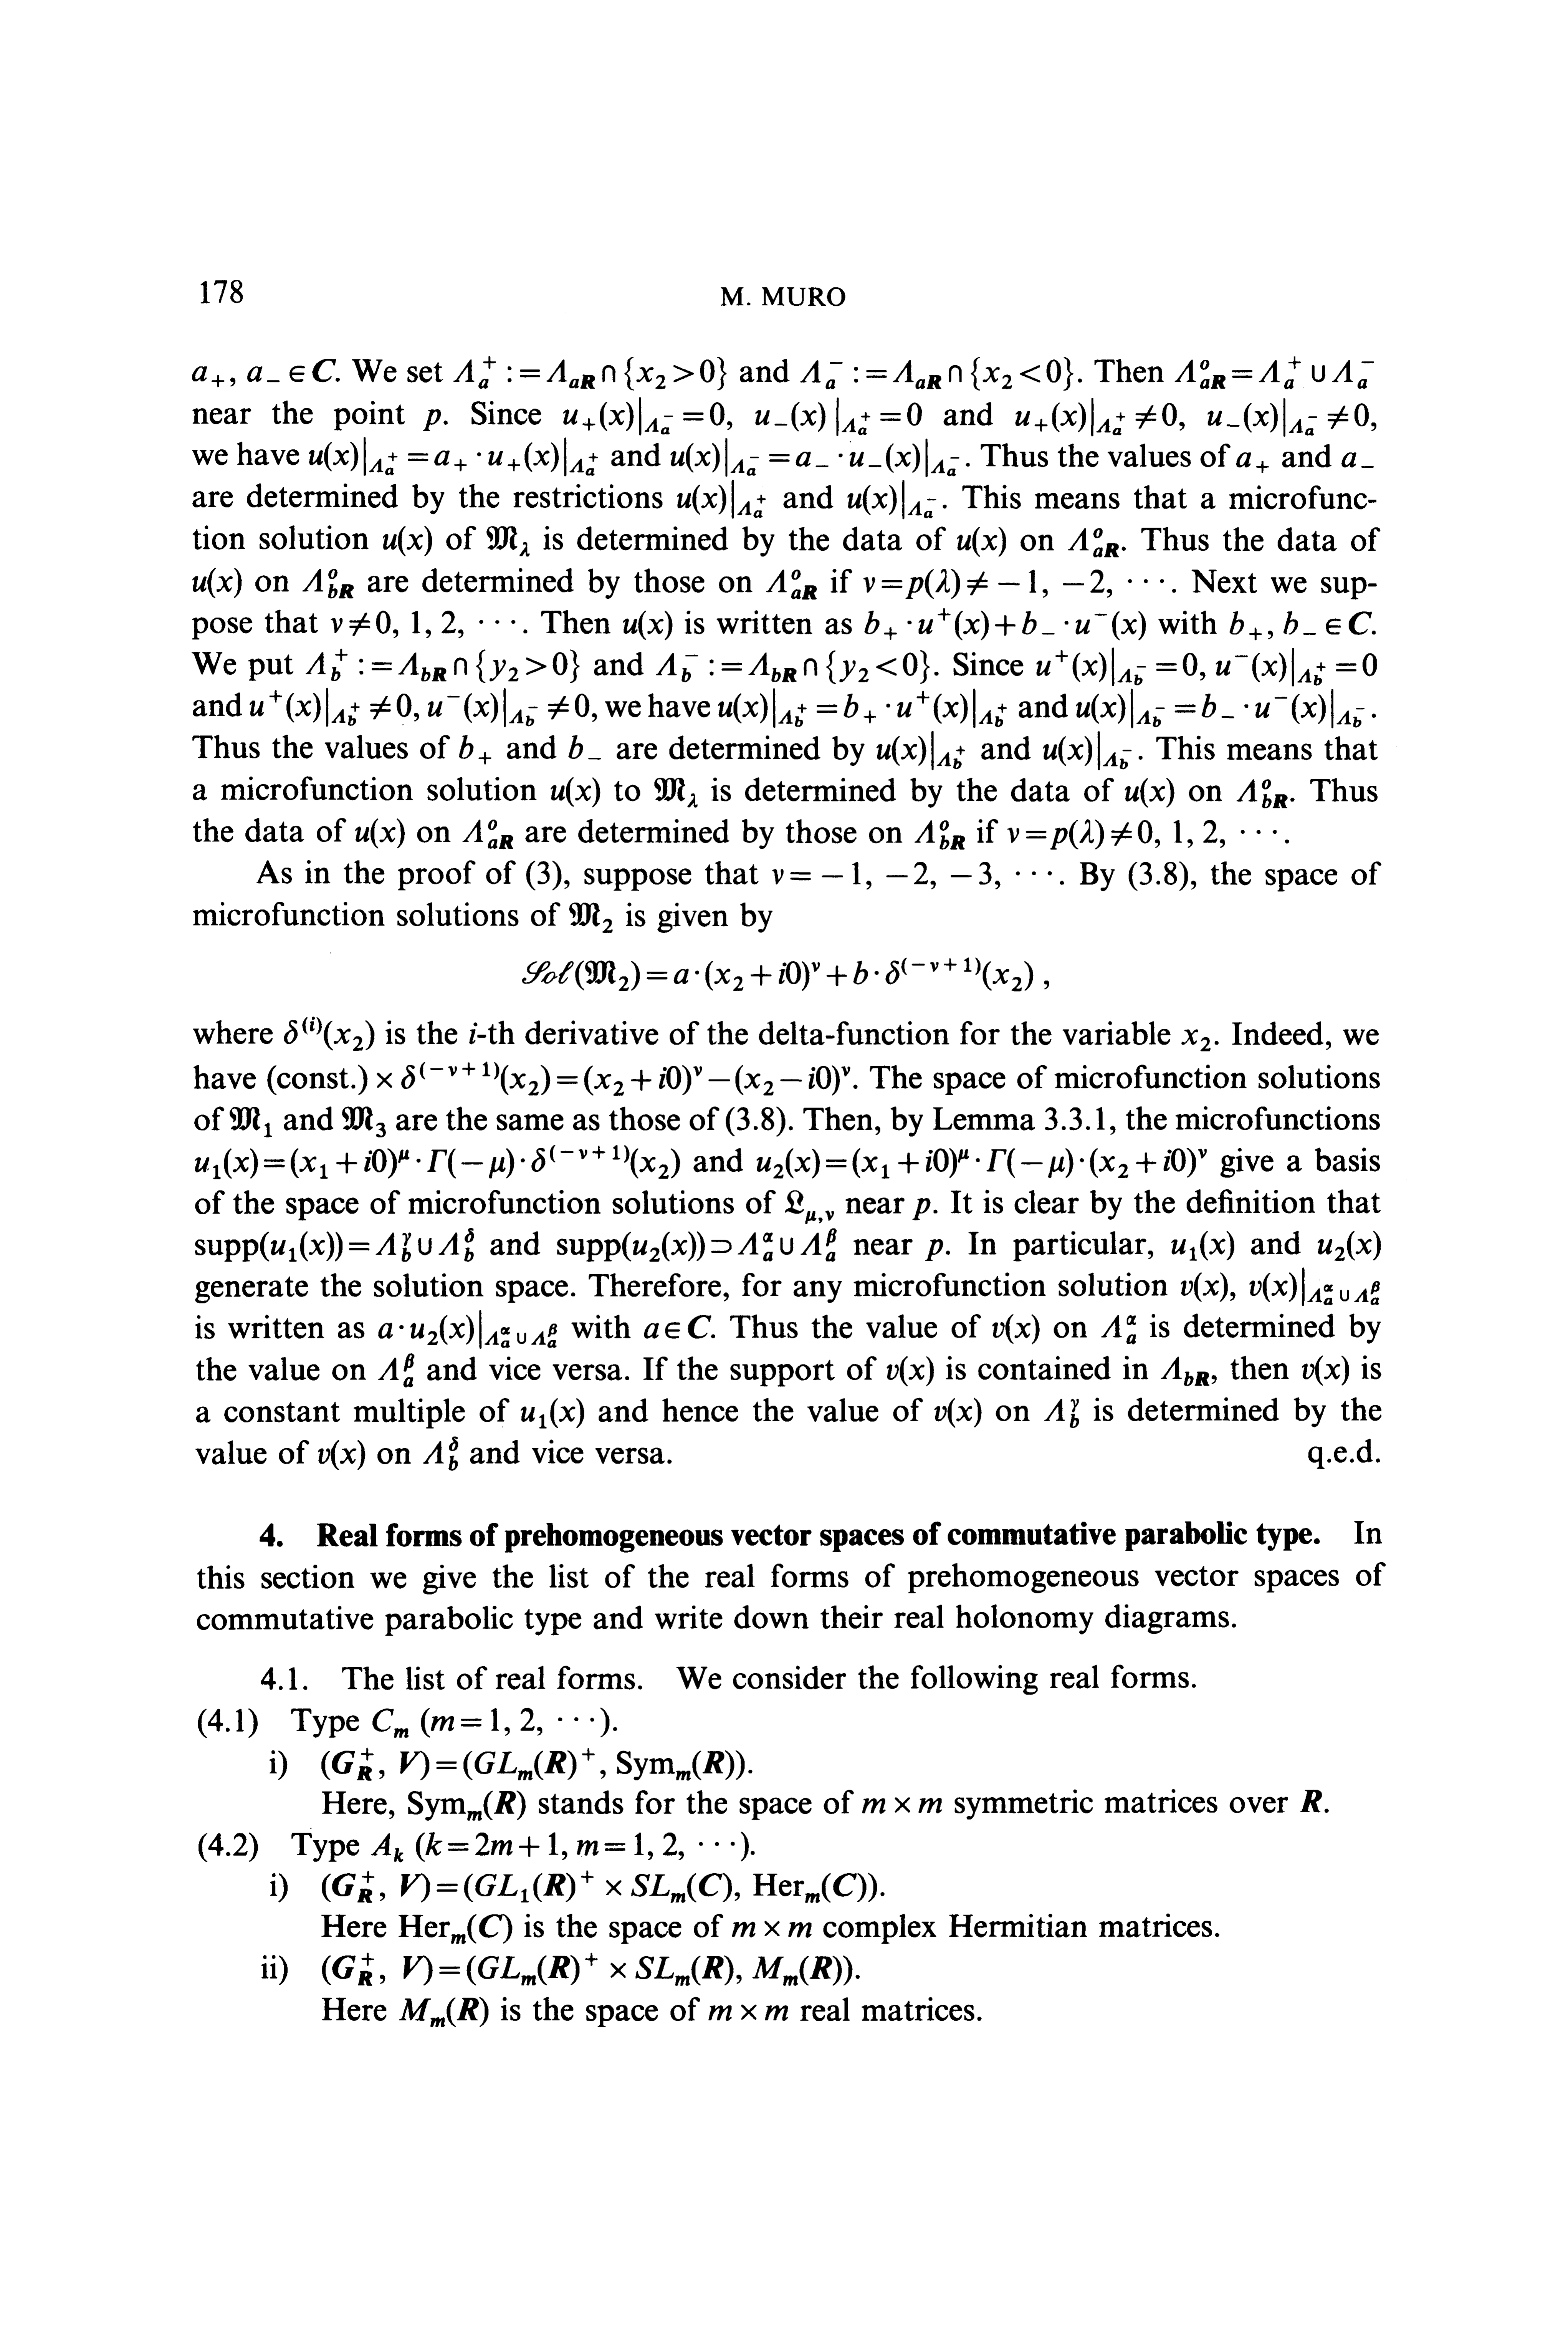maths: (268, 1061, 851, 1096), (322, 1871, 877, 1902), (521, 957, 1032, 991), (194, 1145, 679, 1180), (322, 1953, 852, 1985), (756, 1148, 1206, 1178), (322, 1748, 744, 1780), (717, 688, 1006, 728), (1076, 688, 1365, 728), (371, 1832, 749, 1862), (308, 438, 597, 476), (670, 438, 959, 476), (453, 355, 726, 390), (656, 649, 929, 684), (865, 607, 1146, 641), (194, 1229, 474, 1262), (556, 1229, 837, 1262), (800, 357, 1073, 390), (306, 649, 579, 683), (863, 569, 1164, 599), (1008, 819, 1276, 849), (772, 861, 1052, 889), (373, 1708, 609, 1738), (378, 1311, 556, 1349), (756, 397, 922, 436), (1174, 357, 1374, 389), (427, 688, 590, 726), (563, 397, 724, 436), (1015, 397, 1176, 436), (1036, 648, 1197, 686), (1216, 648, 1377, 686), (250, 688, 411, 726), (1208, 399, 1369, 436), (1249, 1267, 1379, 1306), (331, 611, 514, 637), (1230, 611, 1375, 641), (193, 359, 339, 387), (408, 1790, 525, 1820), (847, 480, 936, 518), (677, 480, 765, 518), (877, 732, 964, 770), (1043, 732, 1130, 770), (399, 1915, 511, 1944), (284, 1017, 374, 1050), (399, 1997, 488, 2027), (1171, 1230, 1234, 1260), (1318, 1230, 1381, 1260), (520, 1398, 583, 1428), (784, 1190, 835, 1223), (644, 1316, 714, 1339), (383, 525, 432, 557), (303, 569, 354, 599), (766, 569, 817, 599), (1237, 779, 1288, 809), (462, 819, 513, 849), (957, 527, 1006, 557), (193, 567, 241, 597), (623, 611, 672, 641), (551, 777, 600, 807), (1160, 1356, 1209, 1386), (1067, 529, 1118, 557), (992, 1314, 1039, 1344), (887, 1356, 935, 1386), (1302, 1356, 1349, 1386), (935, 1398, 982, 1428), (1125, 779, 1174, 807), (355, 819, 404, 847), (915, 821, 964, 849), (1181, 1272, 1227, 1302), (318, 1440, 364, 1470), (569, 903, 612, 933), (341, 1106, 385, 1136), (378, 1353, 415, 1388), (732, 1922, 812, 1937), (487, 527, 528, 557), (654, 777, 697, 807), (229, 1106, 271, 1136), (863, 1797, 941, 1813), (709, 2004, 788, 2020), (423, 1437, 458, 1470), (1045, 1398, 1078, 1428), (1101, 1316, 1136, 1344), (458, 735, 492, 763), (569, 735, 600, 760), (1235, 452, 1269, 473), (1181, 1029, 1211, 1050), (1342, 452, 1374, 467), (1300, 1790, 1321, 1811), (912, 1199, 931, 1220), (423, 410, 441, 431), (469, 1022, 487, 1043), (926, 1239, 943, 1260)
